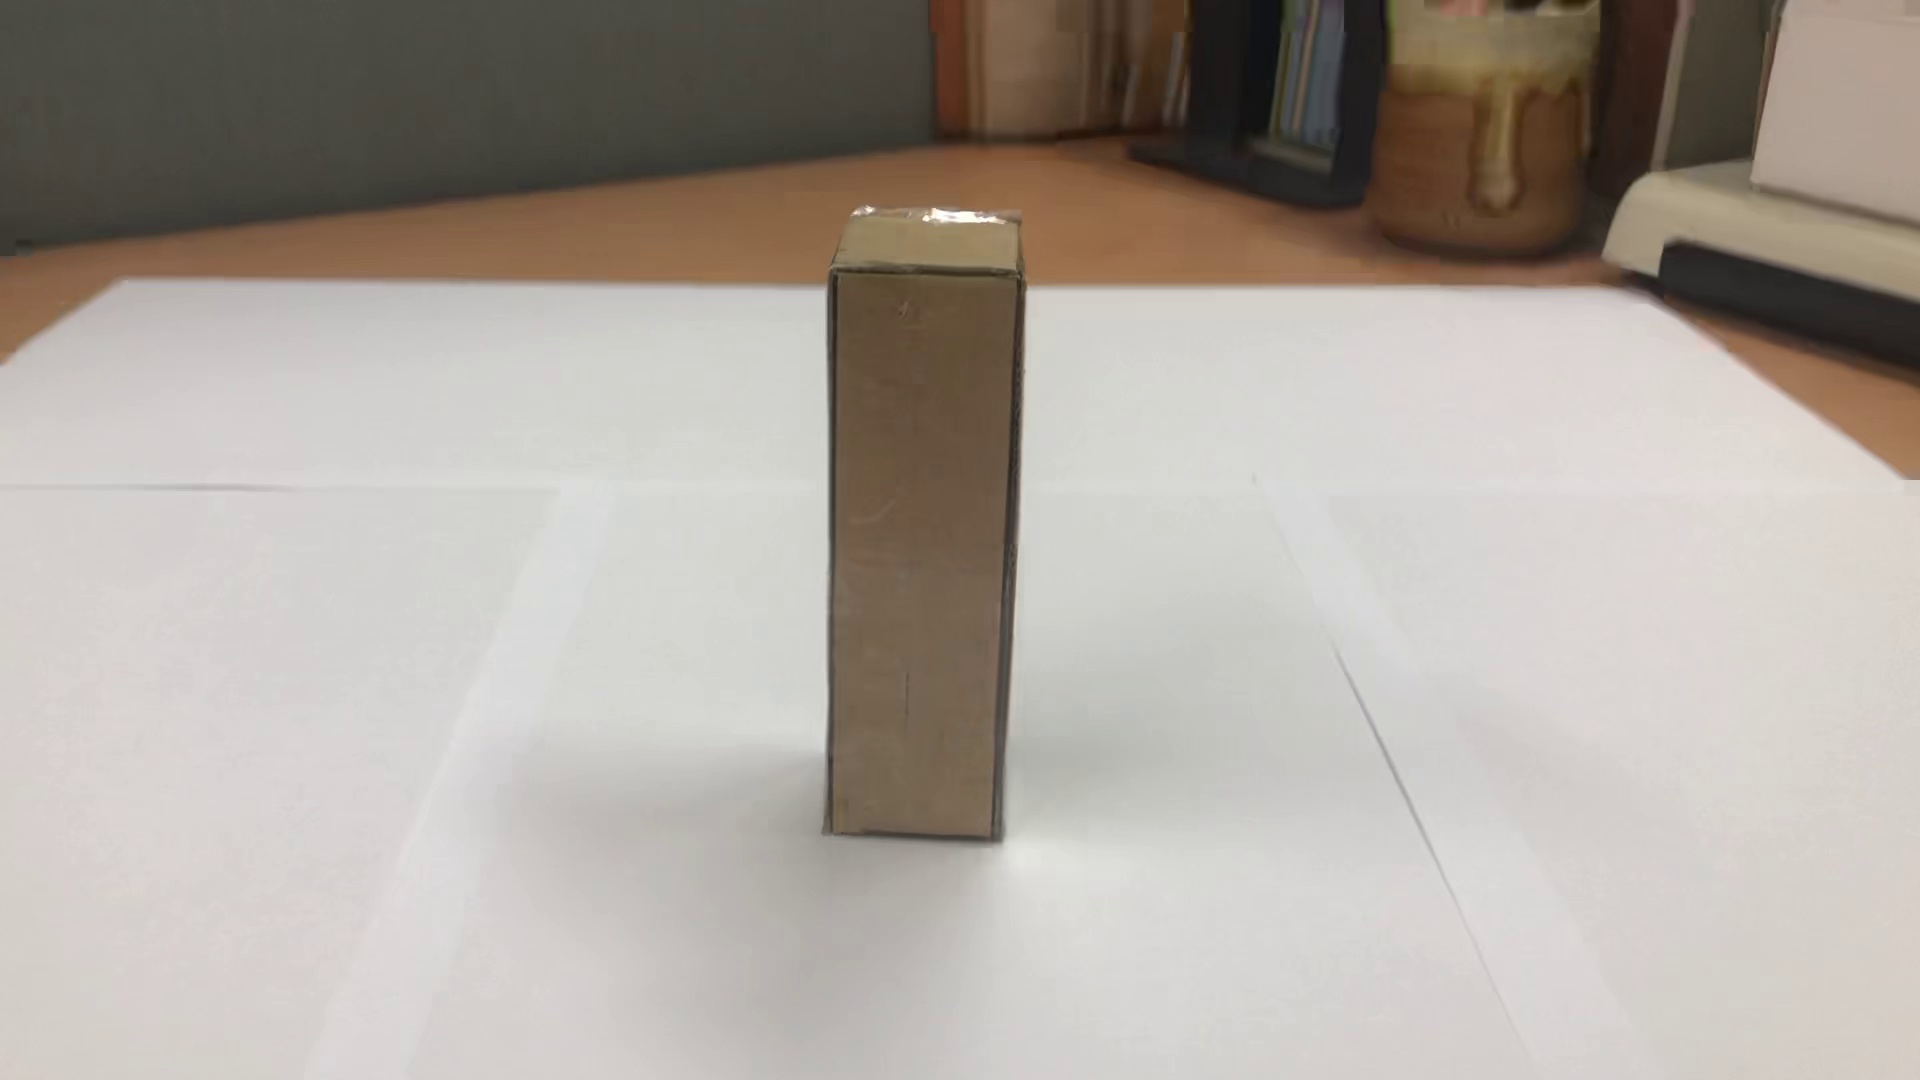box: (800, 193, 1047, 848)
